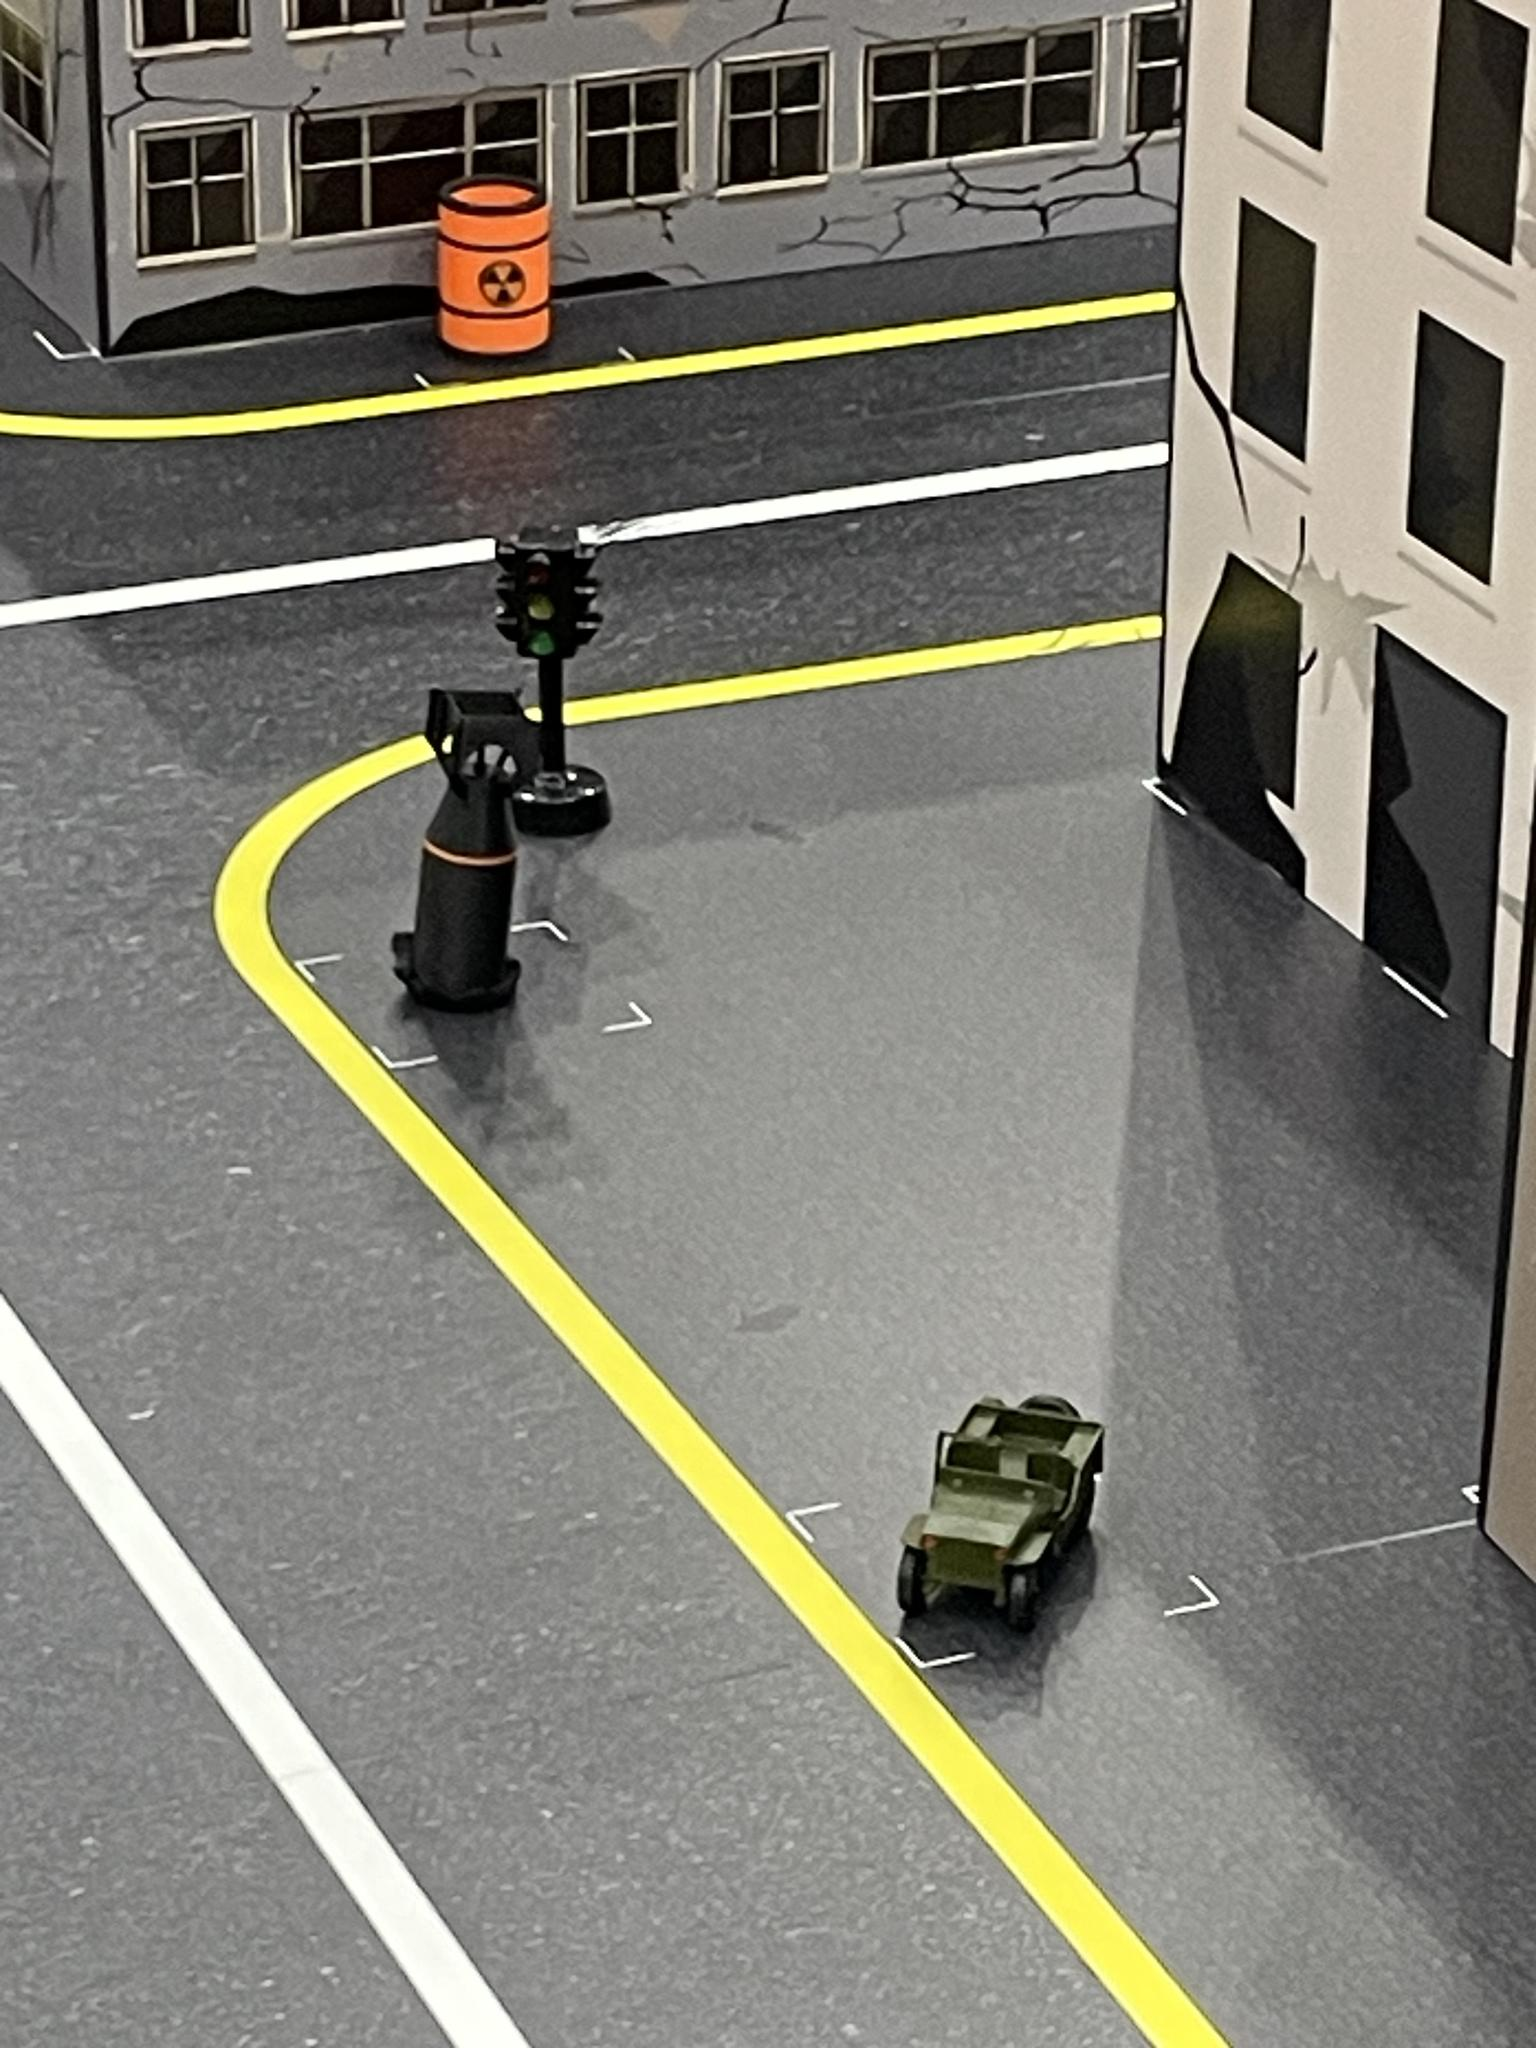Car: (891, 1387, 1110, 1634)
Hazmat: (437, 176, 570, 379)
Missile: (381, 677, 541, 1026)
